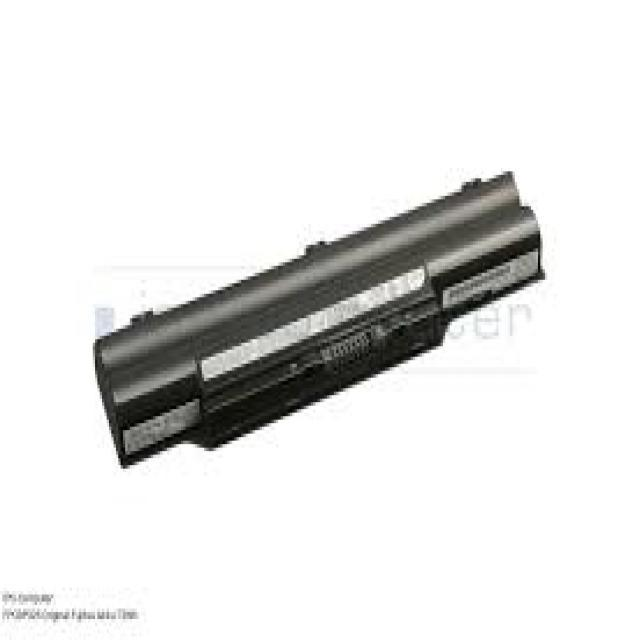battery: (91, 167, 546, 470)
